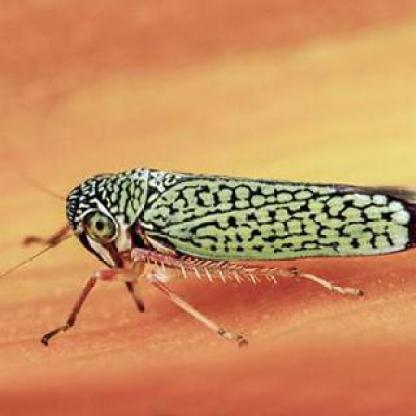green-leafhopper: (21, 166, 416, 346)
